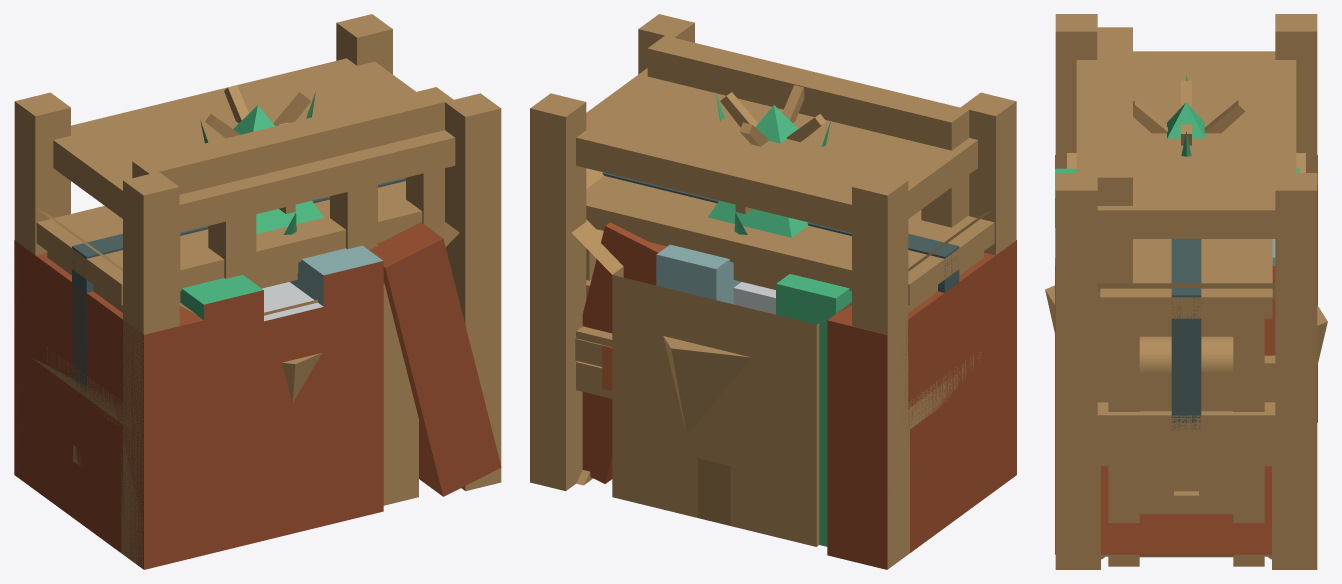
Rendered from journal-furnishings.glb.
3 renders of one model, left to right at view 1: azimuth 30°, elevation 25°; view 2: azimuth 150°, elevation 25°; view 3: azimuth 270°, elevation 25°, orthographic.
Parts seen in each view (by area): view 1: books, bookcaseOpenLow, sideTable, chair, bench, cardboardBoxOpen, radio, plantSmall1, tableCross, coatRackStanding, tableCloth; view 2: bookcaseOpenLow, books, cardboardBoxOpen, sideTable, bench, plantSmall1, chair, tableCloth, coatRackStanding, radio, tableCross; view 3: bookcaseOpenLow, sideTable, radio, tableCloth, bench, books, tableCross, chair, coatRackStanding, plantSmall1, cardboardBoxOpen.
Boxes of the visible parts, x1,y1,x2,y2 form: books: (14, 222, 501, 569); bookcaseOpenLow: (14, 14, 501, 568); sideTable: (36, 181, 422, 312); chair: (208, 106, 377, 284); bench: (132, 87, 453, 302); cardboardBoxOpen: (37, 209, 459, 505); radio: (72, 177, 405, 389); plantSmall1: (233, 105, 323, 402); tableCross: (31, 341, 133, 467); coatRackStanding: (205, 85, 310, 213); tableCloth: (58, 370, 133, 561); bookcaseOpenLow: (530, 14, 1016, 569); books: (582, 222, 1016, 569); cardboardBoxOpen: (571, 168, 994, 546); sideTable: (586, 176, 994, 312); bench: (586, 35, 969, 298); plantSmall1: (663, 105, 808, 435); chair: (724, 54, 888, 131); tableCloth: (575, 338, 973, 562); coatRackStanding: (720, 85, 826, 213); radio: (596, 172, 959, 292); tableCross: (576, 326, 981, 485); bookcaseOpenLow: (1055, 14, 1317, 569); sideTable: (1100, 239, 1272, 566); radio: (1139, 239, 1233, 557); tableCloth: (1075, 422, 1297, 569); bench: (1097, 27, 1275, 556); books: (1055, 155, 1317, 554); tableCross: (1076, 402, 1296, 559); chair: (1097, 64, 1132, 139); coatRackStanding: (1133, 80, 1245, 145); plantSmall1: (1045, 102, 1327, 365); cardboardBoxOpen: (1067, 153, 1305, 299).
Size of the model in its own units: 1 by 1 by 0.6761.
